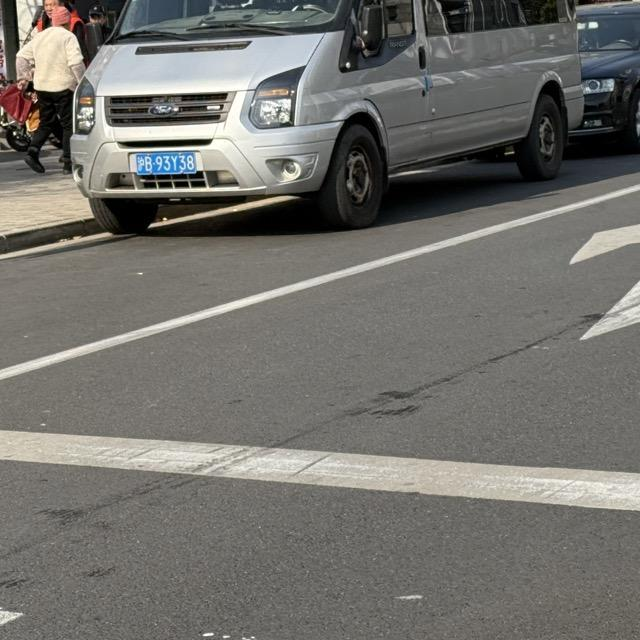curb: (0, 218, 104, 254)
